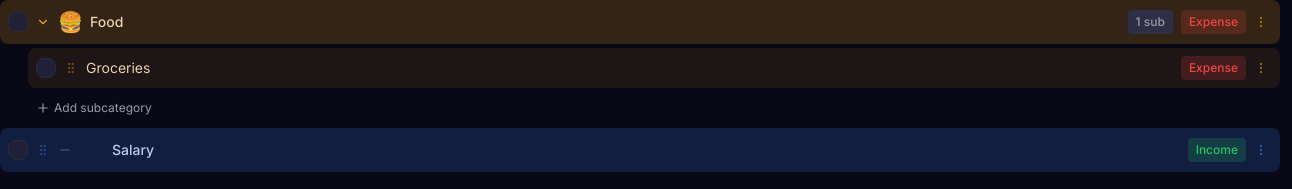
Test case: CategoryTree › collapsing a parent hides its children
The image size is (1292, 189).
Expected: the text "Groceries" is shown, [86,59,150,76]
Click the button named "Collapse Food" at (43, 22), box [36,15,50,29]
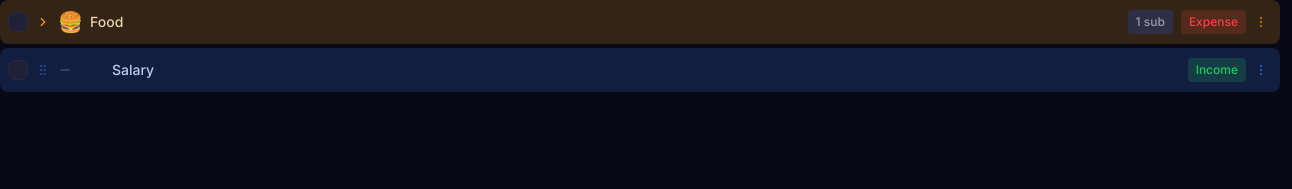
Result: the text "Groceries" is gone
